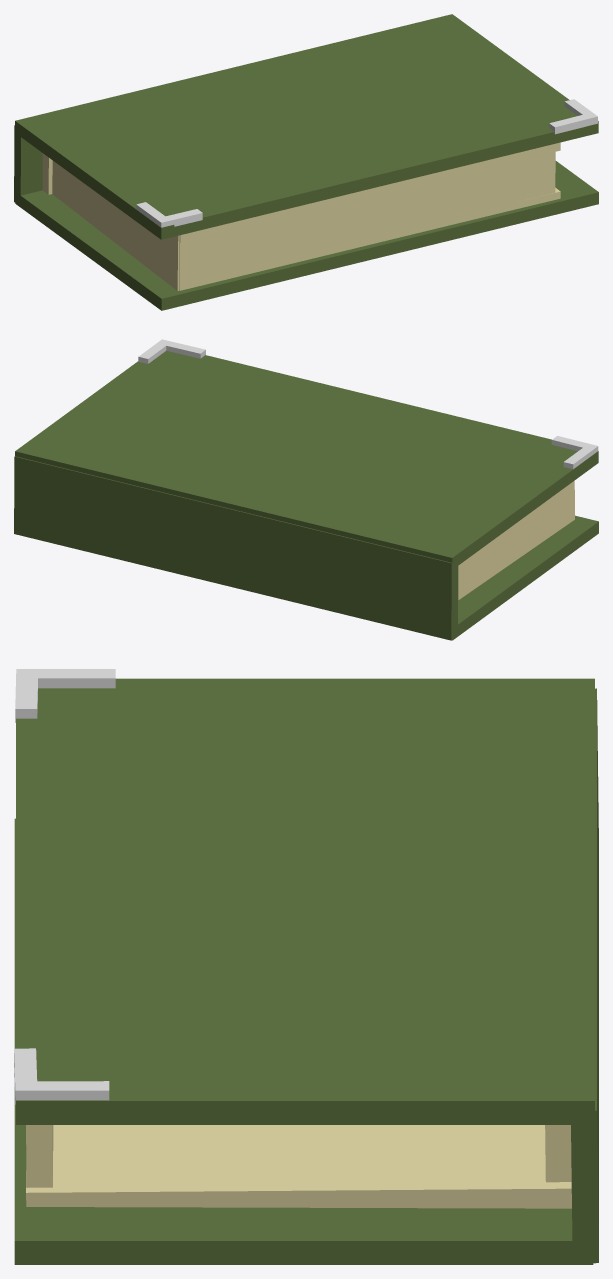
The model's file is book.fbx.
3 renders of one model, top to bottom at view 1: azimuth 30°, elevation 25°; view 2: azimuth 150°, elevation 25°; view 3: azimuth 270°, elevation 25°, orthographic. The views are drawn at different scales.
Visible parts, largest first — view 1: Cube, Cube.004, Cube.001, Cube.003, Cube.002, Cube.008, Cube.006, Cube.009, Cube.011; view 2: Cube, Cube.002, Cube.001, Cube.003, Cube.008, Cube.005; view 3: Cube, Cube.009, Cube.001, Cube.002, Cube.007, Cube.005, Cube.004, Cube.011, Cube.006, Cube.008.
Part boxes in pixels (x1,y1,x2,y2): Cube: [15, 14, 598, 239]; Cube.004: [179, 143, 555, 290]; Cube.001: [15, 161, 598, 310]; Cube.003: [52, 160, 179, 290]; Cube.002: [14, 125, 42, 205]; Cube.008: [549, 113, 595, 134]; Cube.006: [160, 209, 202, 227]; Cube.009: [506, 187, 560, 211]; Cube.011: [42, 153, 52, 194]; Cube: [15, 350, 598, 568]; Cube.002: [14, 456, 458, 640]; Cube.001: [452, 515, 598, 640]; Cube.003: [458, 481, 574, 599]; Cube.008: [159, 340, 205, 358]; Cube.005: [563, 444, 596, 469]; Cube: [16, 678, 594, 1124]; Cube.009: [26, 1125, 571, 1208]; Cube.001: [14, 818, 593, 1264]; Cube.002: [571, 688, 598, 1263]; Cube.007: [15, 1081, 109, 1104]; Cube.005: [21, 669, 115, 688]; Cube.004: [26, 1125, 53, 1187]; Cube.011: [545, 1125, 571, 1182]; Cube.006: [15, 669, 37, 722]; Cube.008: [14, 1048, 37, 1096].
Bounding box in the file's own units: 322 × 61.77 × 189.
